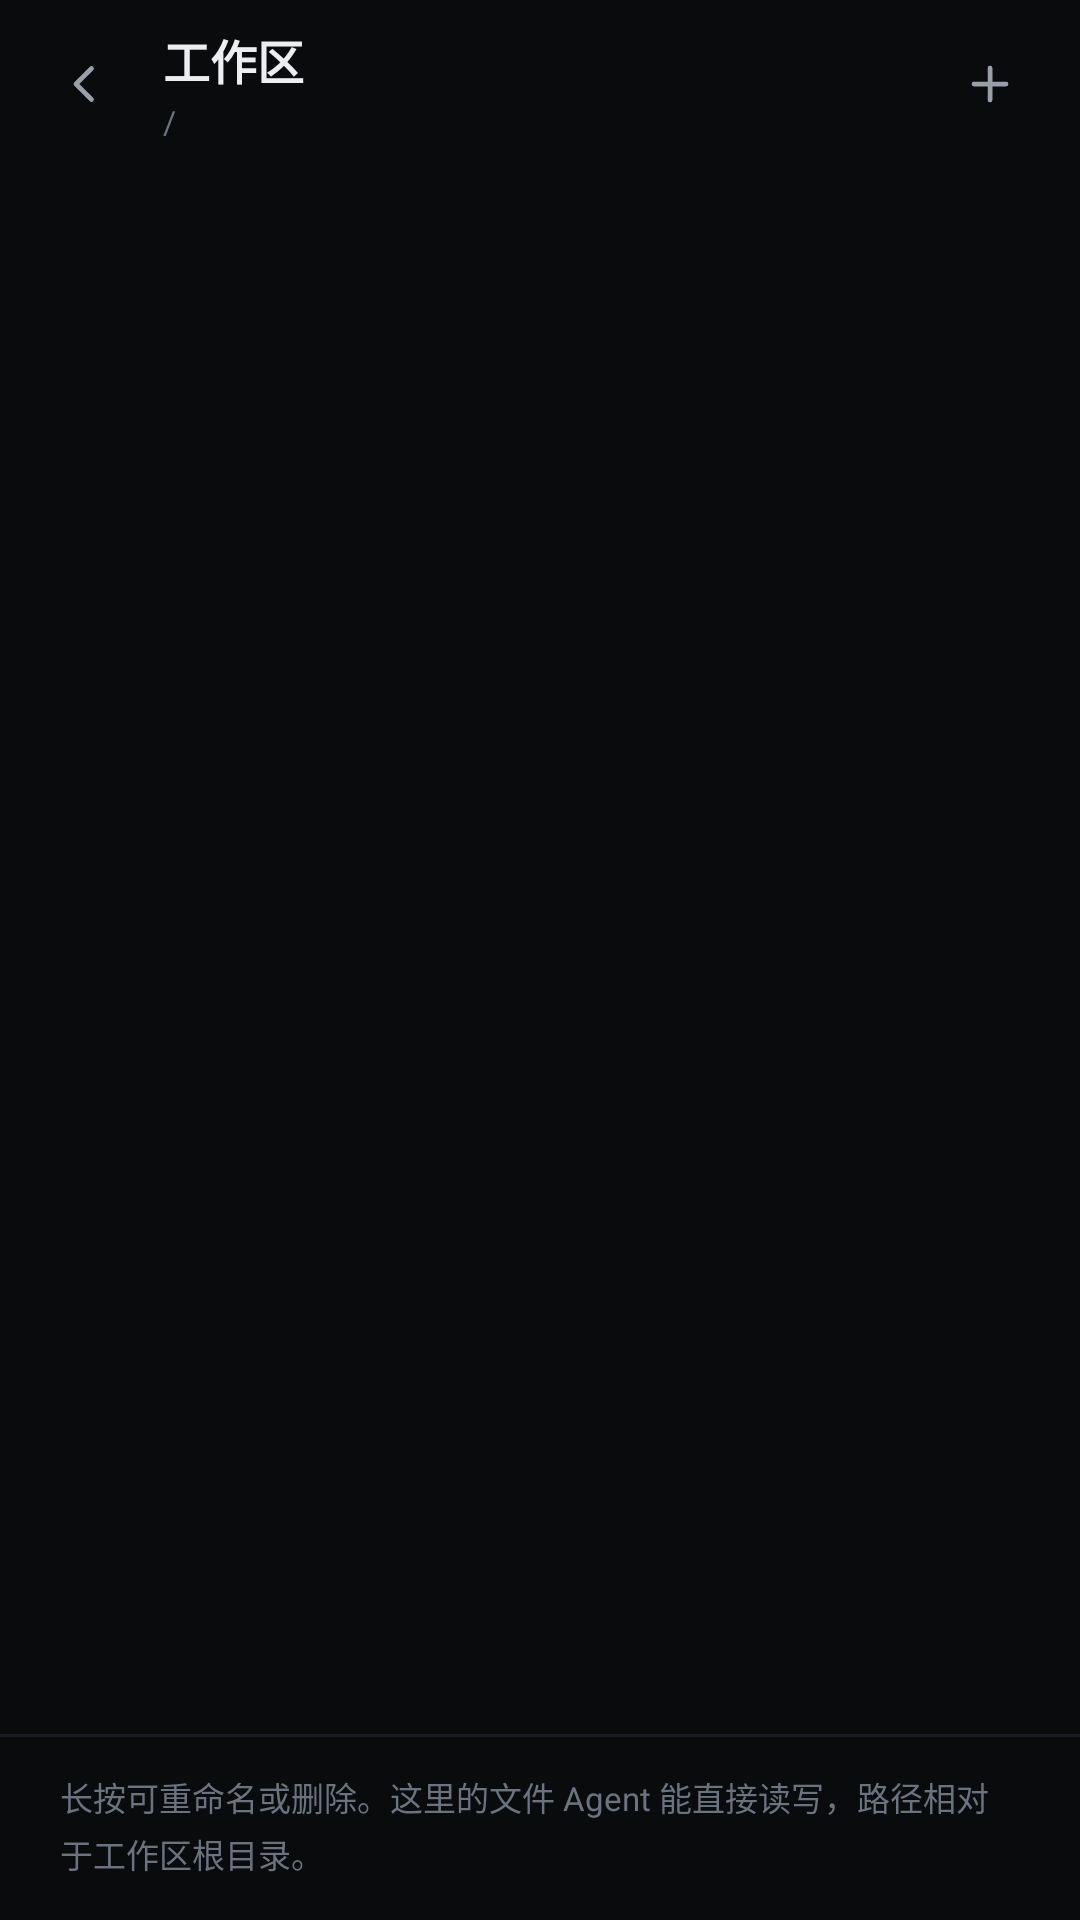

Icons on this 1080w x 1920h Android screen, each with the point to tap as [x,y]:
添加文件: [990,84]
返回: [83,84]
